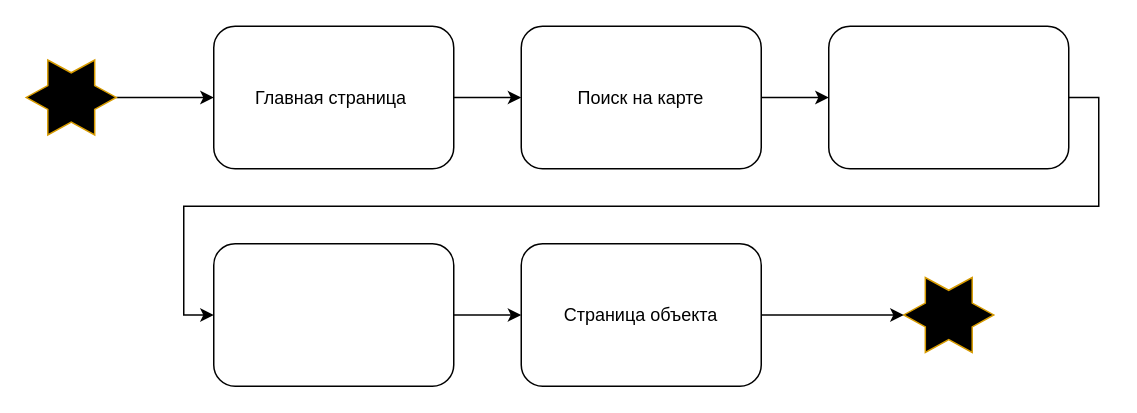
Some shapes in this 1137 by 413 pixel diagram are drawn without their labels. The centre of each missing label's shape, as x and y in pixels:
"Выбор района Минска или области" goes at point (948, 97).
"Просмотр объектов на карте" goes at point (333, 314).
